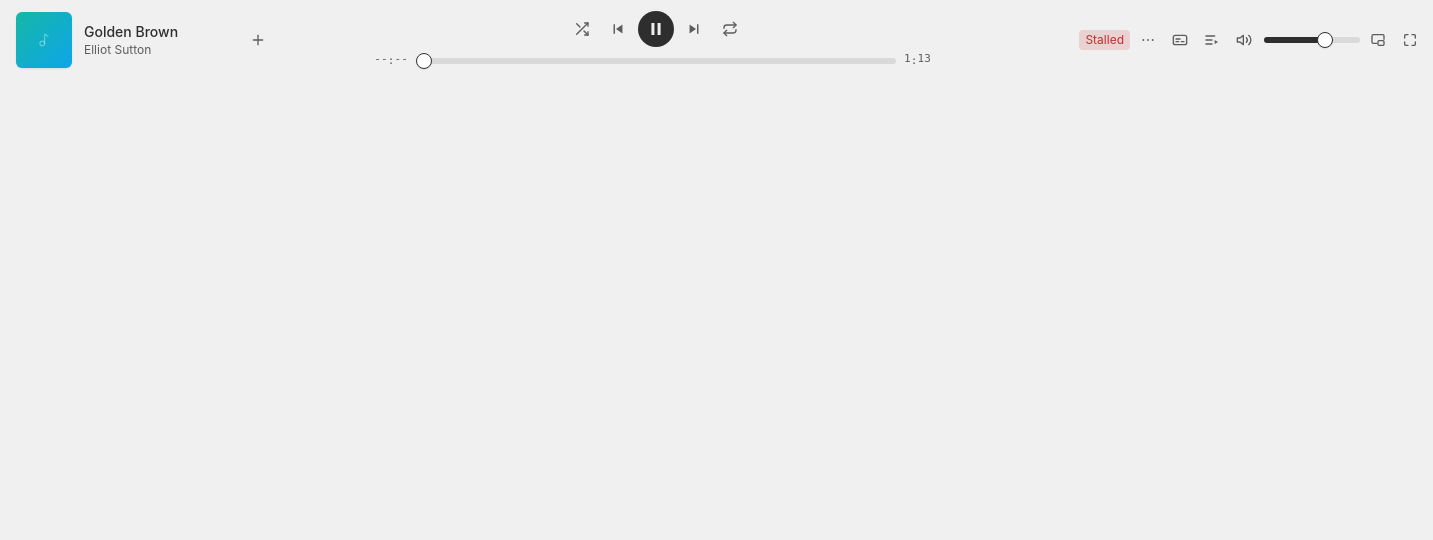
Test: the overflow menu › opens the speed branch, with the current rate marked
Expected: the text "Golden Brown" is shown, [84,23,178,40]
Step 1. Click the button named "More player controls" → (1148, 40), box [1134,26,1162,54]
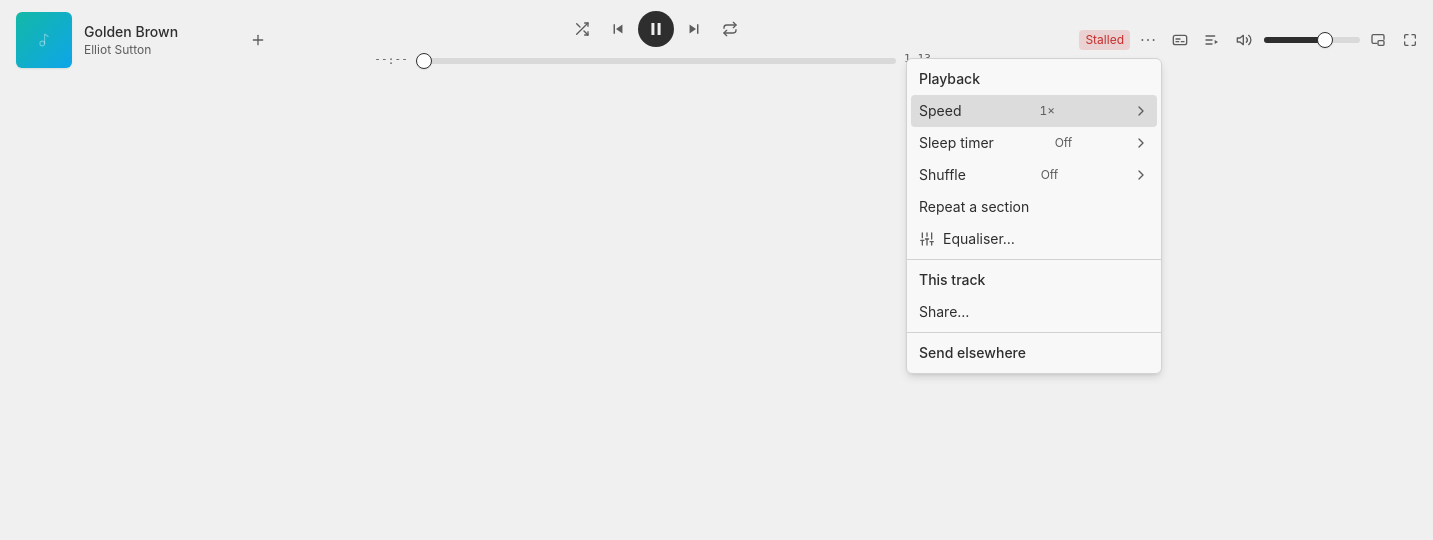
Step 2. Press Arrowright
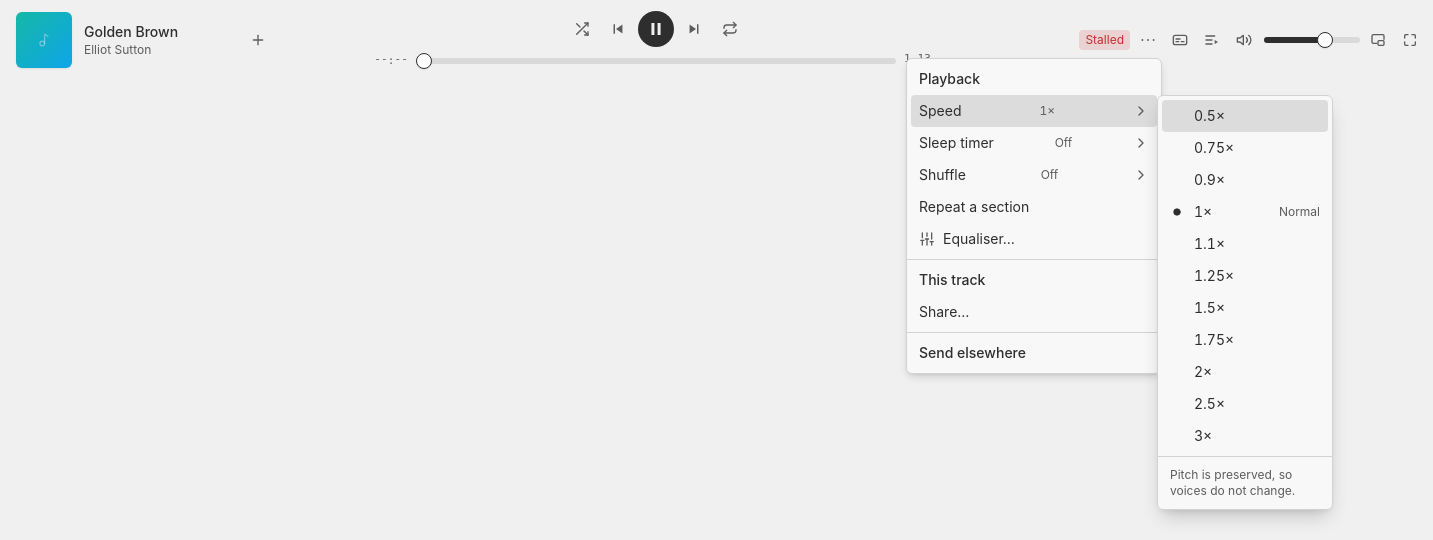
Expected: the menu item "1× Normal" is shown, [1173,203,1320,220]
